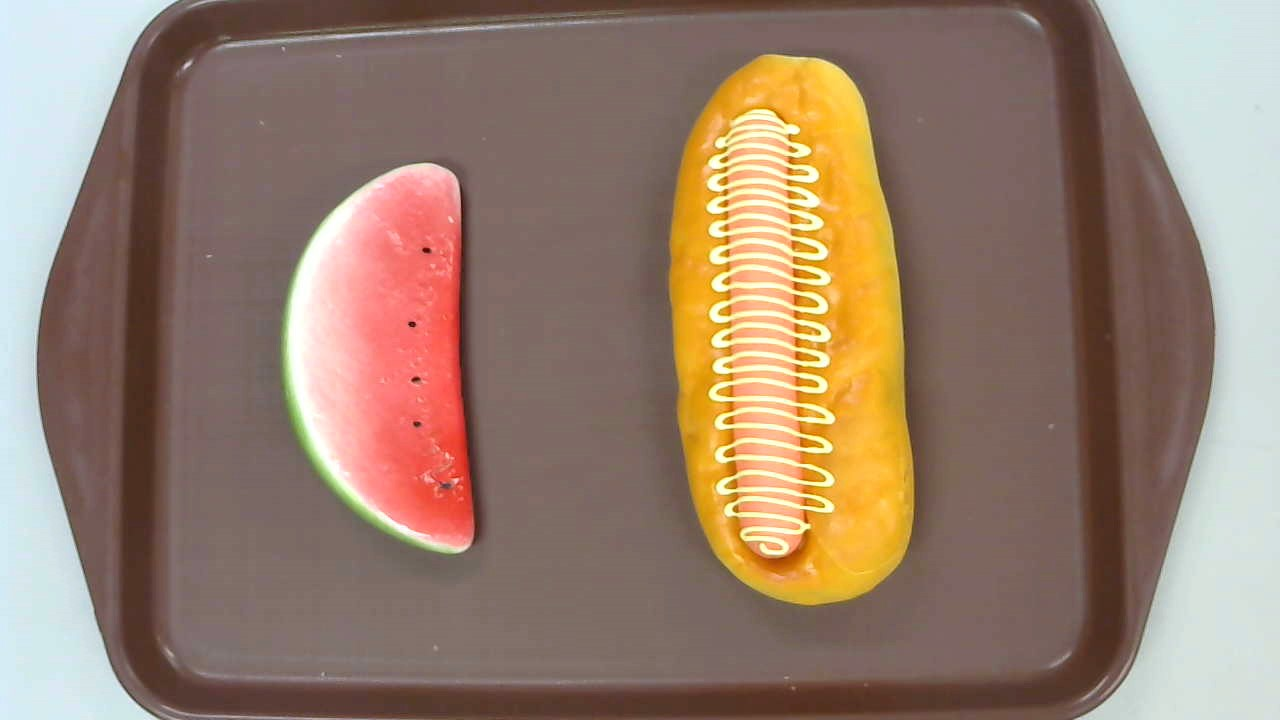hot dog: (667, 54, 915, 606)
water melon: (279, 162, 475, 555)
